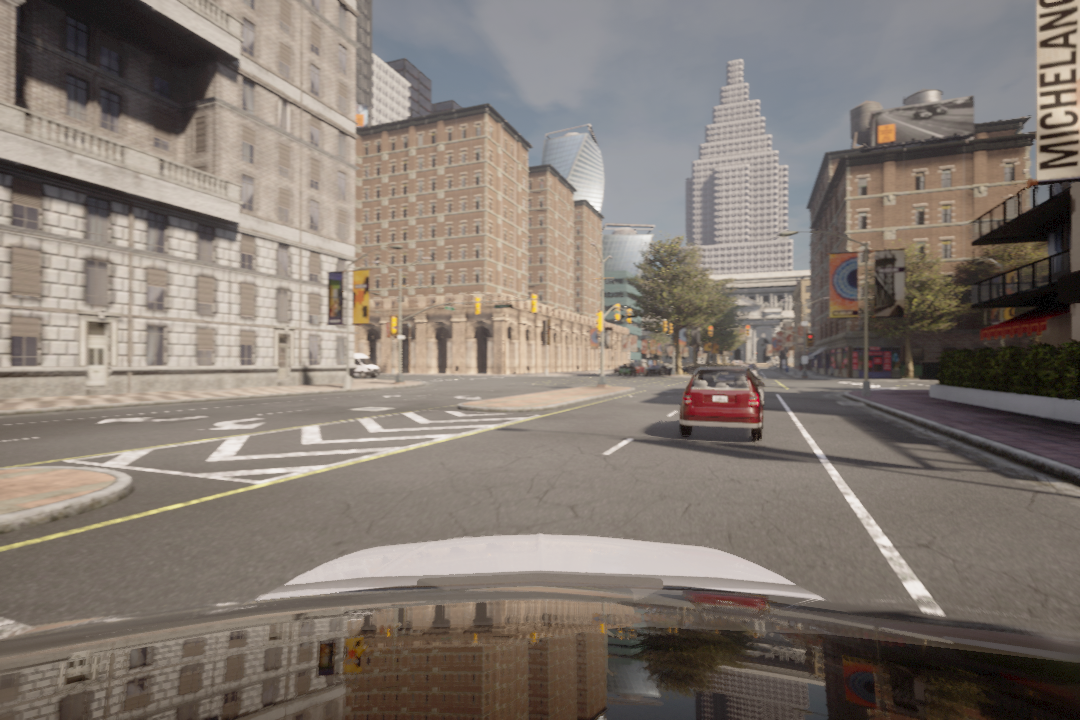RoadSign_left: (203, 414, 275, 438)
